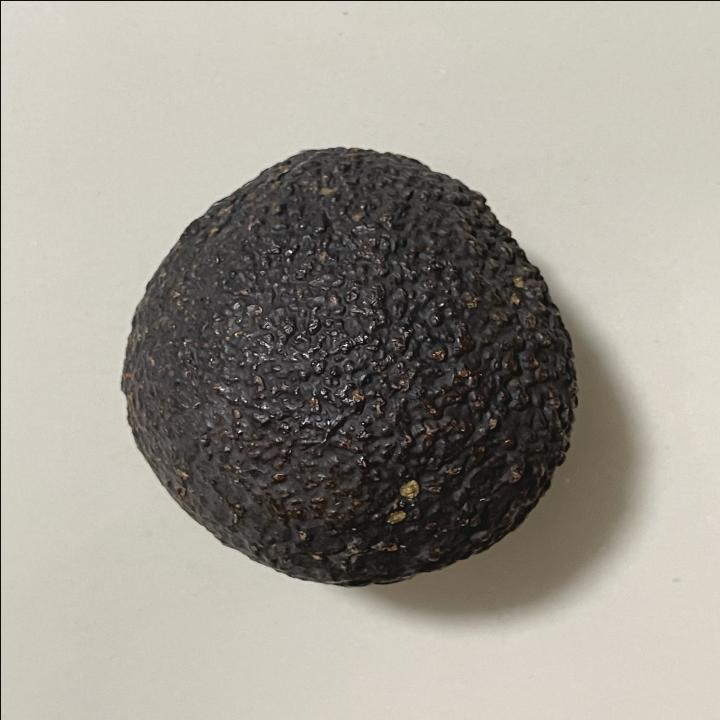Level3: (108, 136, 590, 595)
